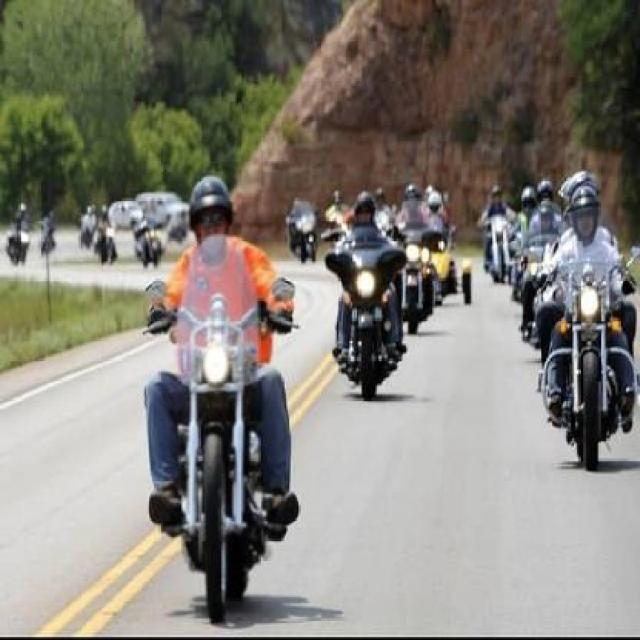helmet: (166, 161, 240, 267), (552, 174, 618, 248), (336, 185, 386, 231)
motorcycle: (111, 127, 303, 634), (502, 161, 640, 479), (295, 181, 416, 400)
